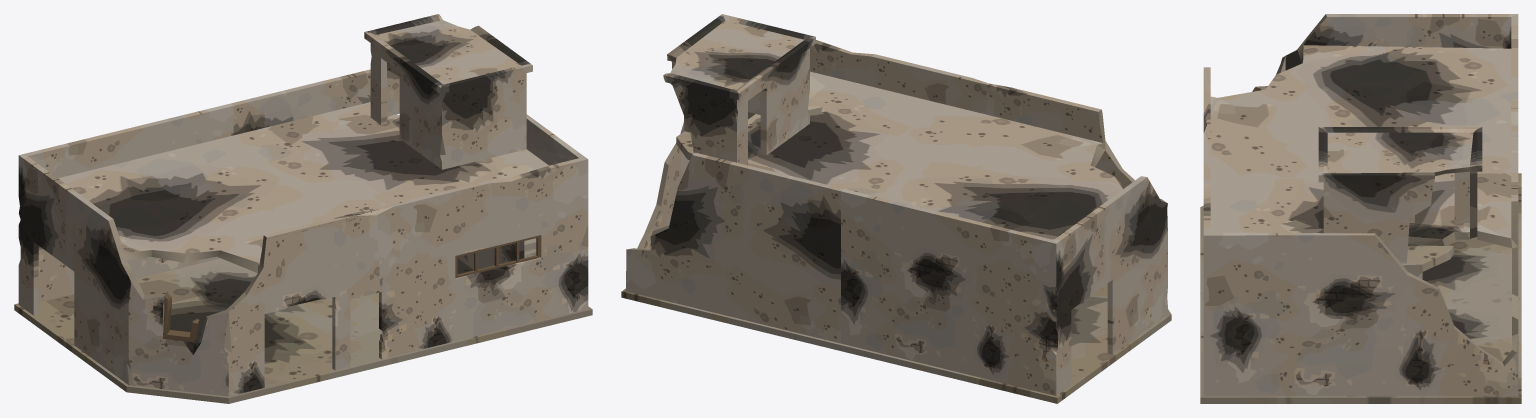
Rendered from SM_Bld_Shop_07_Destroyed.glb.
The picture shows the model from 3 angles, left to right: view 1: azimuth 30°, elevation 25°; view 2: azimuth 150°, elevation 25°; view 3: azimuth 270°, elevation 25°; orthographic projection. The views are drawn at different scales.
Visible parts, largest first — view 1: SM_Bld_Shop_07_Destroyed; view 2: SM_Bld_Shop_07_Destroyed; view 3: SM_Bld_Shop_07_Destroyed.
Boxes of the visible parts, <box> form: SM_Bld_Shop_07_Destroyed: <box>14,14,592,403</box>; SM_Bld_Shop_07_Destroyed: <box>621,14,1171,403</box>; SM_Bld_Shop_07_Destroyed: <box>1200,14,1521,403</box>.
Size of the model in its own units: 15.2 by 7.14 by 9.19.
1 material, 1 textured.
